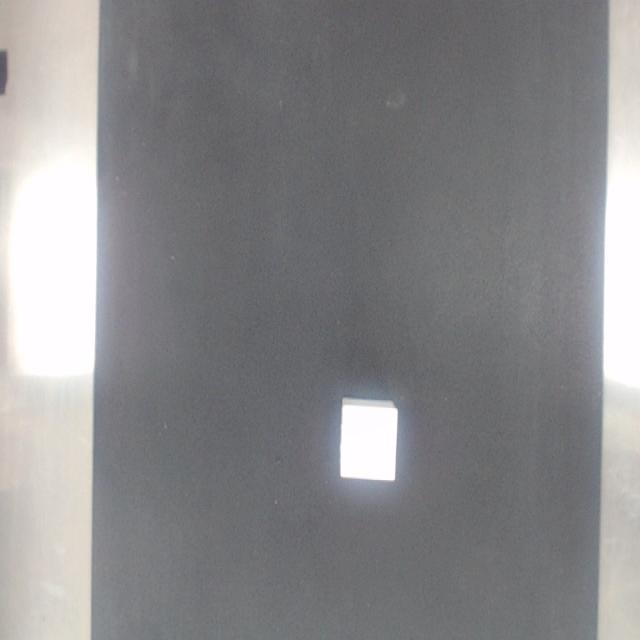Blanco: (340, 397, 397, 479)
